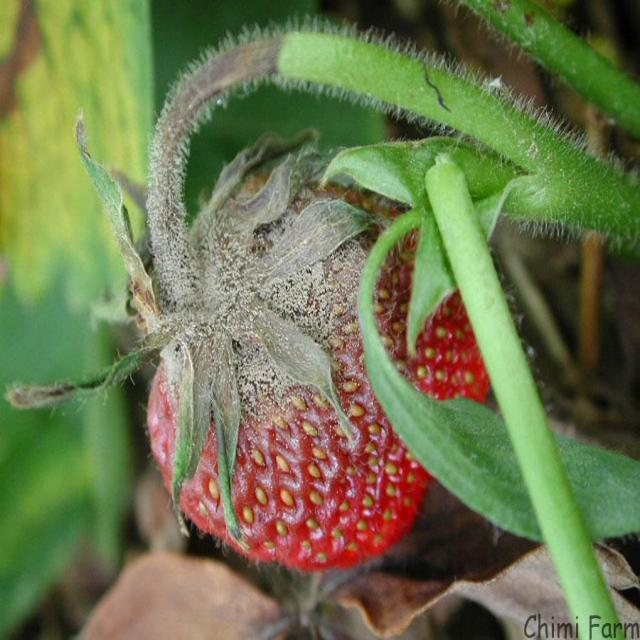Moho gris: (128, 162, 492, 573)
